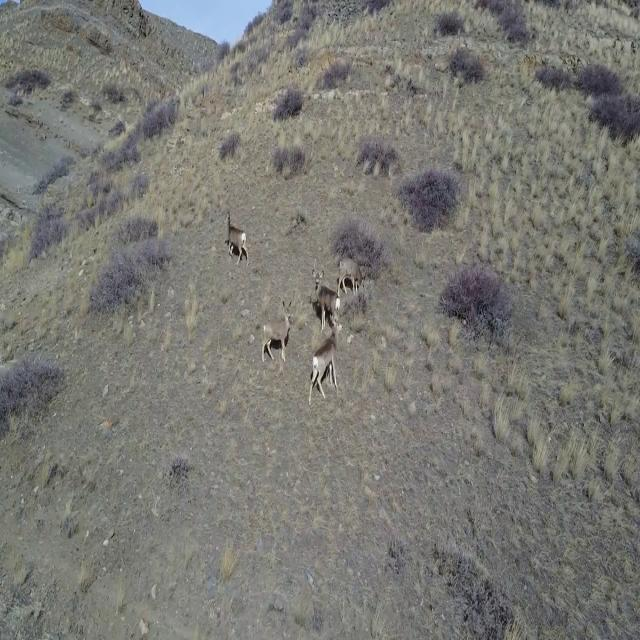Deer: (308, 326, 342, 404), (259, 300, 293, 367), (311, 264, 338, 329), (224, 208, 250, 265), (337, 253, 365, 303)
